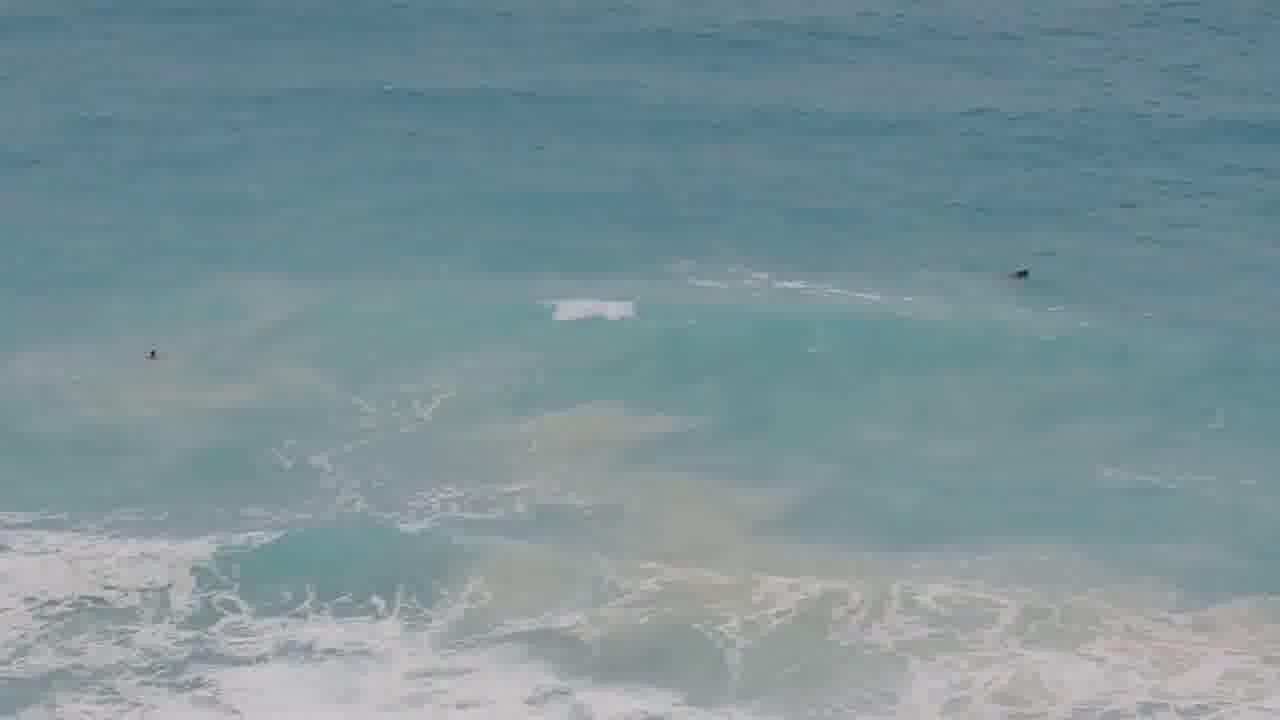human: (127, 337, 178, 370), (1002, 253, 1035, 293)
